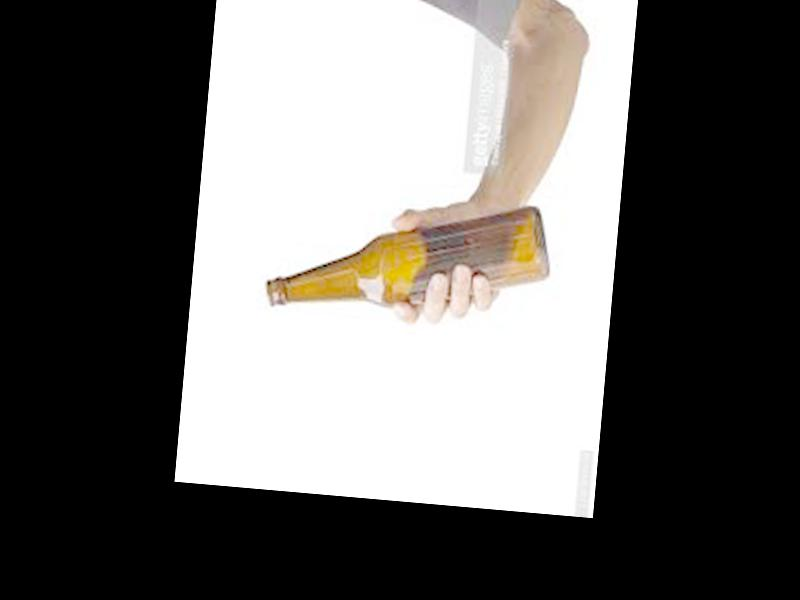Beer: (265, 181, 553, 329)
